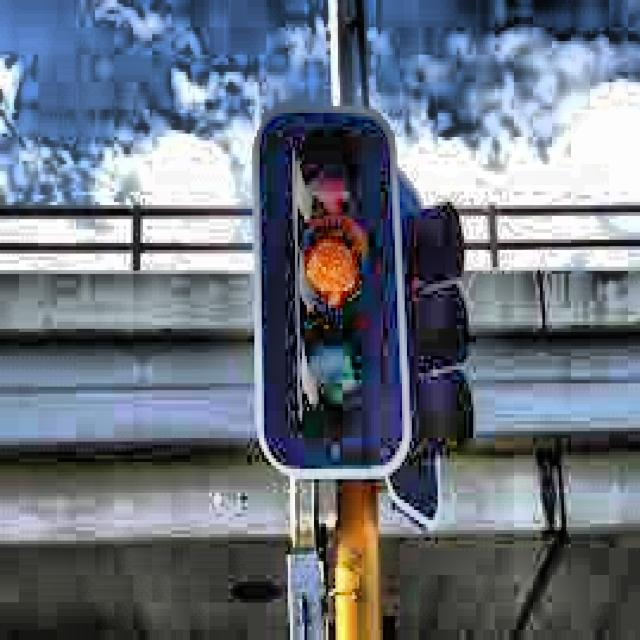yellow: (295, 146, 374, 418)
